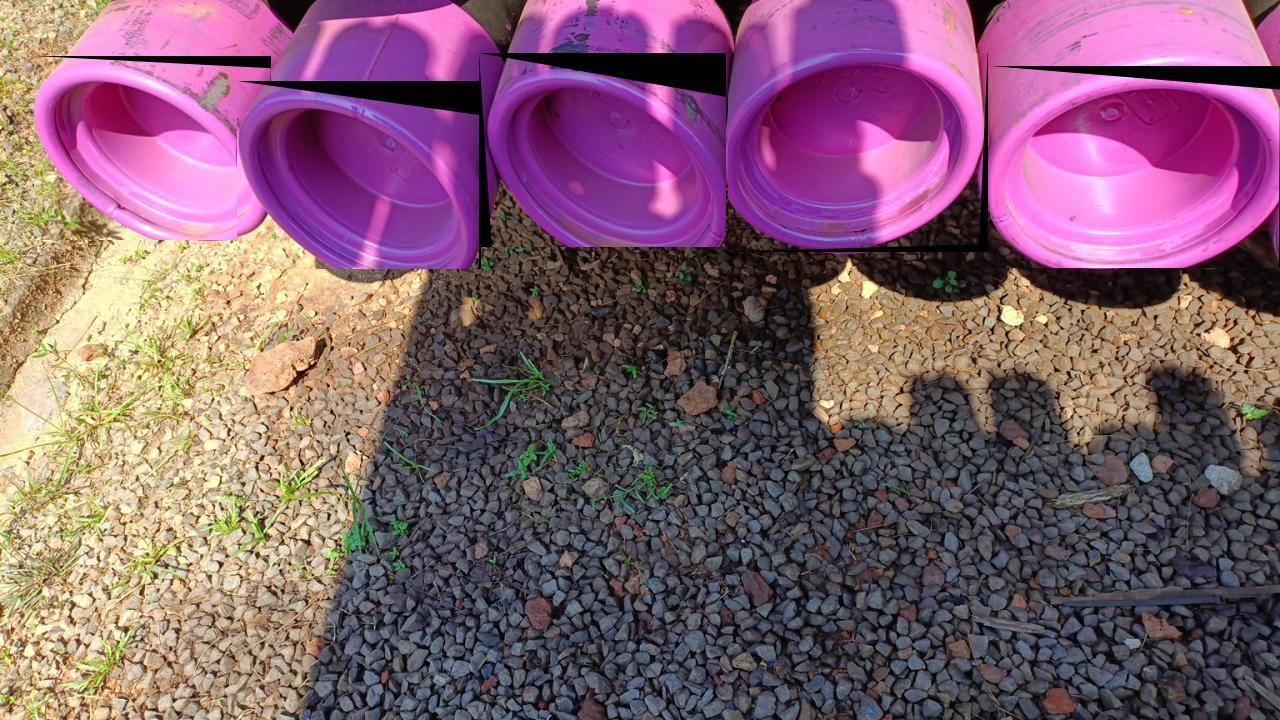pipe: (990, 66, 1280, 268), (728, 53, 988, 252), (479, 53, 726, 247), (237, 81, 481, 269), (34, 56, 271, 240)
